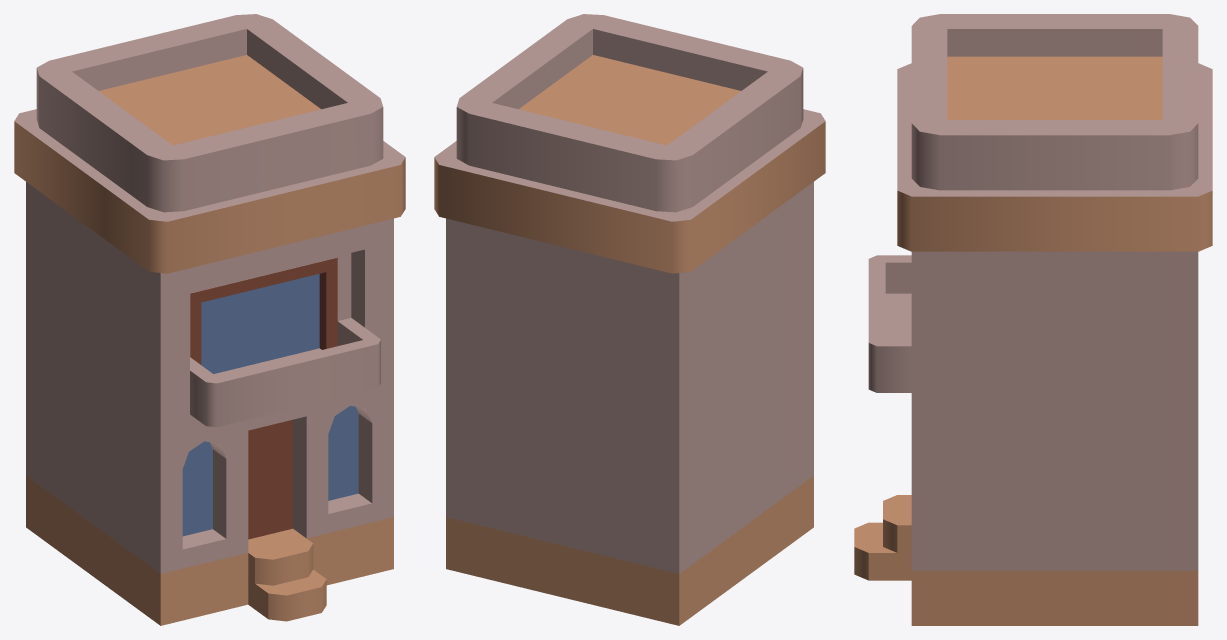
File: building-b.glb
The picture shows the model from 3 angles, left to right: view 1: azimuth 30°, elevation 25°; view 2: azimuth 150°, elevation 25°; view 3: azimuth 270°, elevation 25°; orthographic projection. The views are drawn at different scales.
Parts seen in each view (by area): view 1: building-b; view 2: building-b; view 3: building-b.
Part boxes in pixels (x1,y1,x2,y2): building-b: (14,14,405,625); building-b: (434,14,825,625); building-b: (854,14,1212,625).
Bounding box in the file's own units: 1.1 × 1.89 × 1.25.
